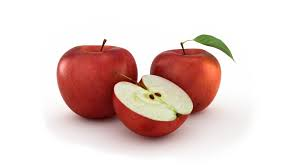apple: (56, 42, 140, 124), (151, 45, 222, 115)
damaged_apple: (110, 75, 197, 141)
